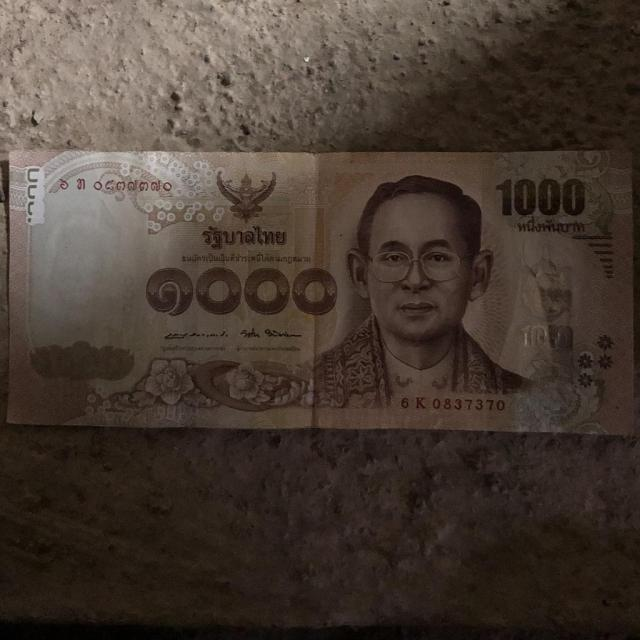THAI1000: (6, 150, 632, 435)
